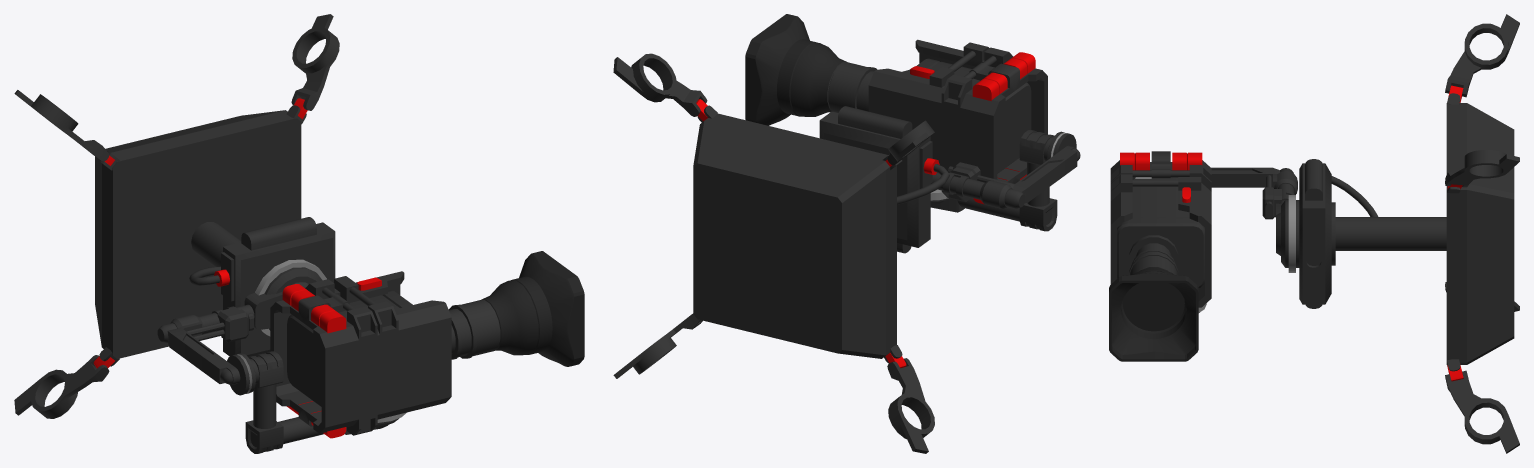
Rendered from SkyCam_Otto.fbx.
3 renders of one model, left to right at view 1: azimuth 30°, elevation 25°; view 2: azimuth 150°, elevation 25°; view 3: azimuth 270°, elevation 25°, orthographic. The views are drawn at different scales.
Visible parts, largest first — view 1: Body, Chasis, Cam, Main-Shaft, Arm, Pulley, Cam-Shaft; view 2: Body, Chasis, Cam, Pulley, Main-Shaft, Arm, Cam-Shaft; view 3: Body, Cam, Main-Shaft, Pulley, Chasis, Arm.
Part boxes in pixels (x1=…): Body: x1=95, y1=110, x2=301, y2=358; Chasis: x1=270, y1=271, x2=451, y2=438; Cam: x1=287, y1=251, x2=584, y2=406; Main-Shaft: x1=189, y1=217, x2=335, y2=356; Arm: x1=157, y1=259, x2=326, y2=395; Pulley: x1=14, y1=14, x2=339, y2=418; Cam-Shaft: x1=245, y1=351, x2=406, y2=453; Body: x1=693, y1=113, x2=896, y2=358; Chasis: x1=868, y1=39, x2=1047, y2=204; Cam: x1=745, y1=14, x2=1031, y2=173; Pulley: x1=613, y1=53, x2=934, y2=453; Main-Shaft: x1=819, y1=106, x2=949, y2=253; Arm: x1=931, y1=131, x2=1080, y2=208; Cam-Shaft: x1=930, y1=130, x2=1057, y2=231; Body: x1=1446, y1=103, x2=1514, y2=364; Cam: x1=1109, y1=178, x2=1204, y2=361; Main-Shaft: x1=1299, y1=159, x2=1446, y2=308; Pulley: x1=1445, y1=14, x2=1519, y2=453; Chasis: x1=1110, y1=151, x2=1211, y2=307; Arm: x1=1211, y1=167, x2=1299, y2=272.
Bounding box in the file's own units: 0.556 × 0.4898 × 0.6084.
